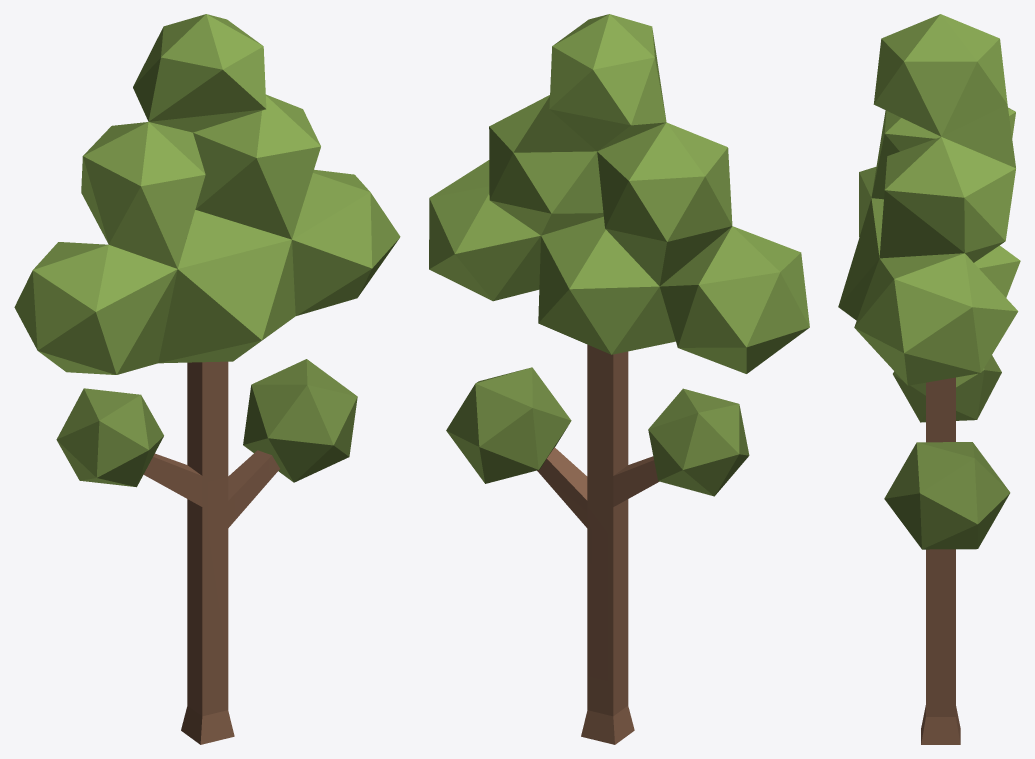
File: deciduous_tree_8.fbx
3 views of the same model, side by side, from view 1: azimuth 30°, elevation 25°; view 2: azimuth 150°, elevation 25°; view 3: azimuth 270°, elevation 25° (orthographic).
Visible parts, largest first — view 1: deciduous_tree_8; view 2: deciduous_tree_8; view 3: deciduous_tree_8.
Part boxes in pixels (bbox=[...]): deciduous_tree_8: bbox=[14, 14, 400, 744]; deciduous_tree_8: bbox=[429, 14, 809, 744]; deciduous_tree_8: bbox=[838, 14, 1020, 744].
Size of the model in its own units: 309 by 590 by 135.
